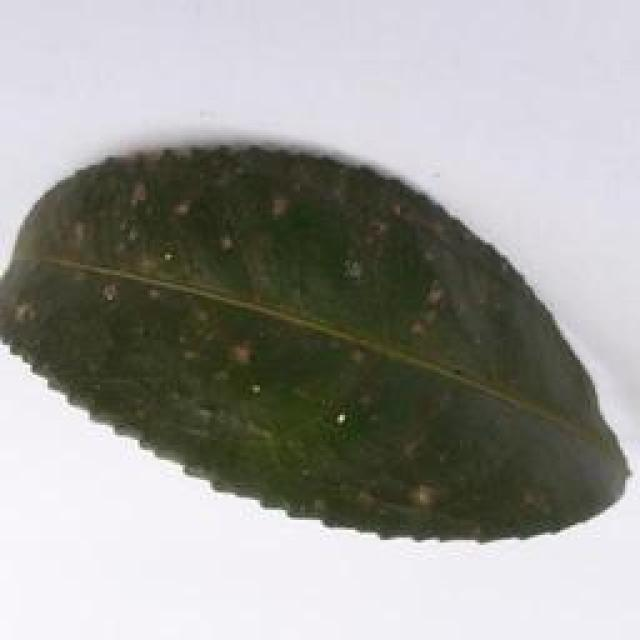Algal Leaf Spot: (6, 136, 640, 547)
